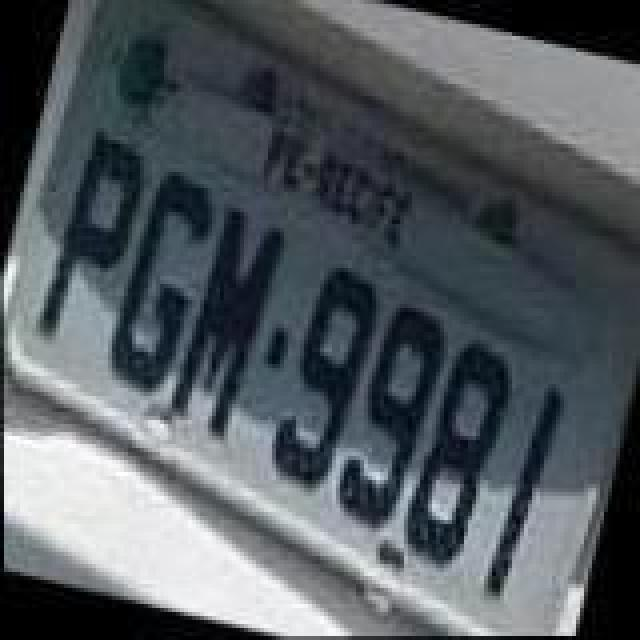1: (476, 378, 568, 614)
8: (392, 332, 524, 576)
9: (326, 296, 454, 540), (264, 258, 388, 498)
G: (98, 168, 226, 408)
M: (162, 202, 290, 450)
P: (32, 124, 156, 356)
